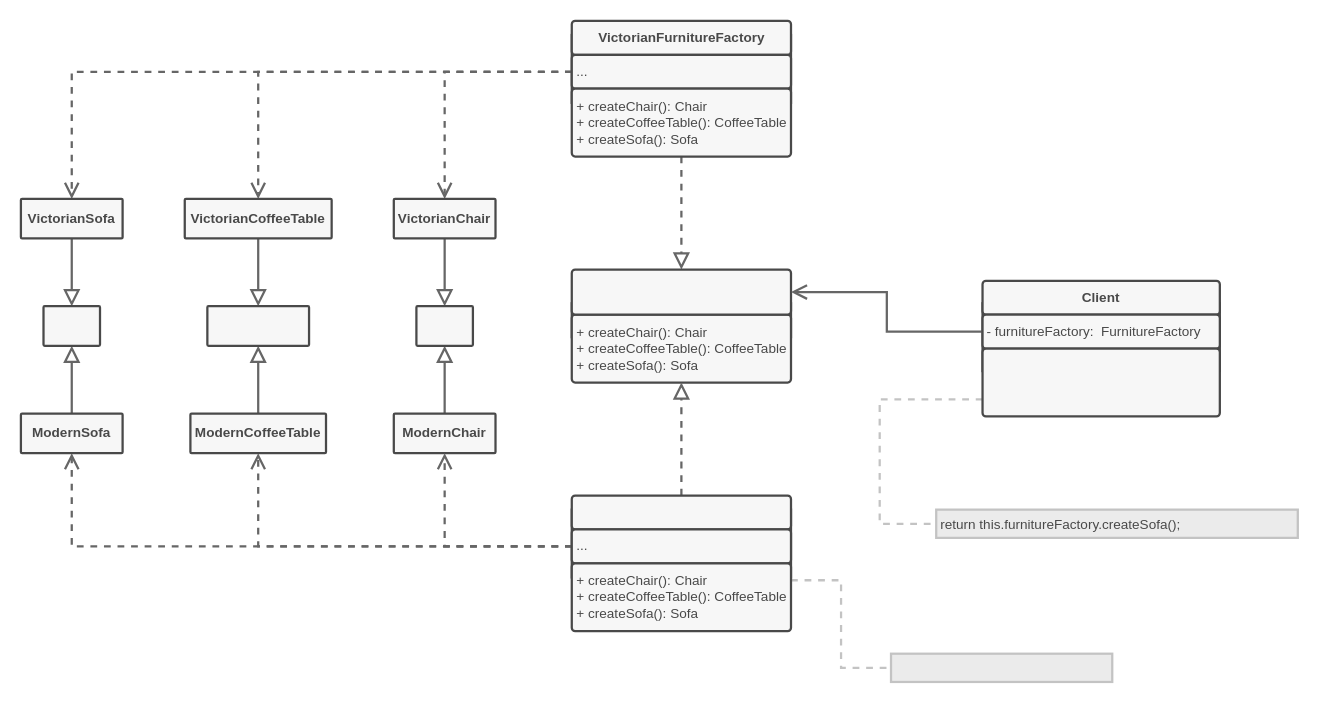
Some shapes in this 1318 by 702 pixel diagram are drawn without their labels. Each missing label, with the centre of its shape:
"+ getChair(): Chair + getCoffeeTable(): CoffeeTable + getSofa(): Sofa" goes at [1100,382].
"<<interface>> FurnitureFactory" goes at [681,291].
"Chair" goes at [444,325].
"CoffeeTable" goes at [258,325].
"ModernFurnitureFactory" goes at [681,512].
"return new ModernChair();" goes at [1001,667].
"Sofa" goes at [71,325].
